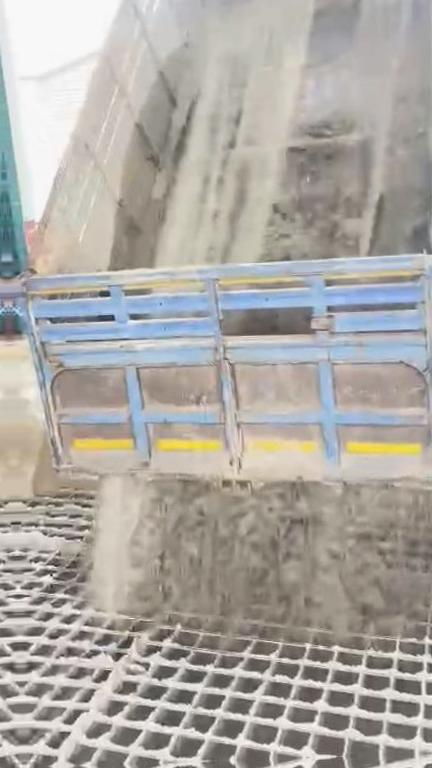sand: (91, 417, 432, 637), (161, 0, 432, 265), (13, 409, 59, 498)
